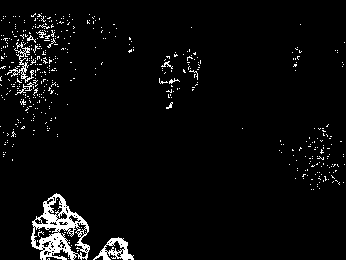person: (30, 189, 91, 260), (159, 54, 179, 110)
